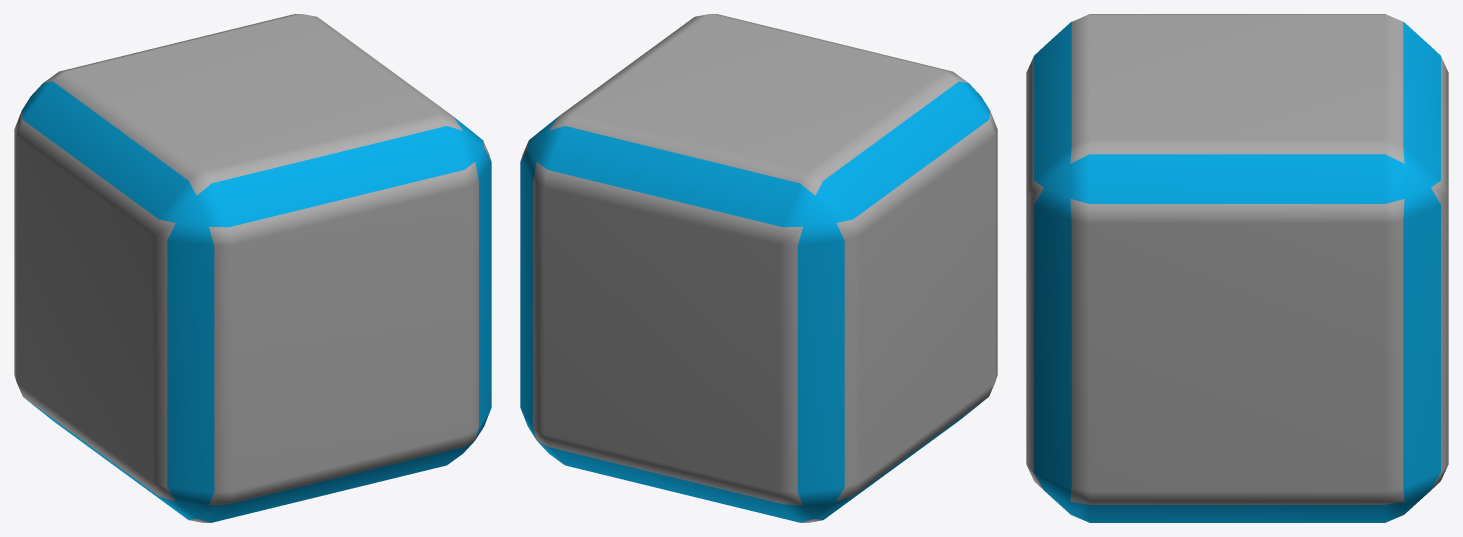
The model's file is InGameCube.fbx.
3 renders of one model, left to right at view 1: azimuth 30°, elevation 25°; view 2: azimuth 150°, elevation 25°; view 3: azimuth 270°, elevation 25°, orthographic. The views are drawn at different scales.
Visible parts, largest first — view 1: pCube1; view 2: pCube1; view 3: pCube1.
Part boxes in pixels (bbox=[...]): pCube1: bbox=[14, 14, 491, 522]; pCube1: bbox=[520, 14, 997, 522]; pCube1: bbox=[1026, 14, 1448, 522].
Size of the model in its own units: 8.41 by 8.41 by 8.41.
